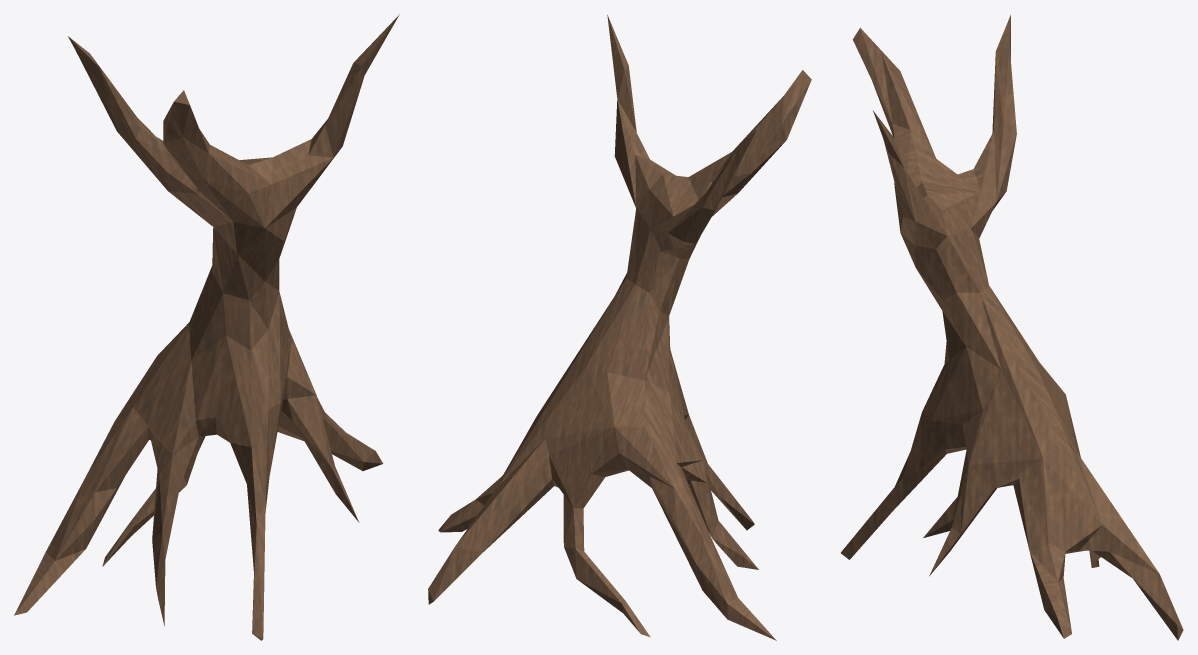
The model's file is Arvore_B_Normal.fbx.
The picture shows the model from 3 angles, left to right: view 1: azimuth 30°, elevation 25°; view 2: azimuth 150°, elevation 25°; view 3: azimuth 270°, elevation 25°; orthographic projection. The views are drawn at different scales.
Visible parts, largest first — view 1: Arvore_B; view 2: Arvore_B; view 3: Arvore_B.
Boxes of the visible parts, x1,y1,x2,y2 form: Arvore_B: [14, 14, 399, 640]; Arvore_B: [428, 15, 811, 640]; Arvore_B: [841, 15, 1183, 640].
Size of the model in its own units: 389 by 582 by 339.
Materials: 1 (1 with a texture image).
